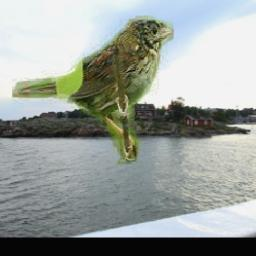Sparrow: (13, 17, 175, 165)
